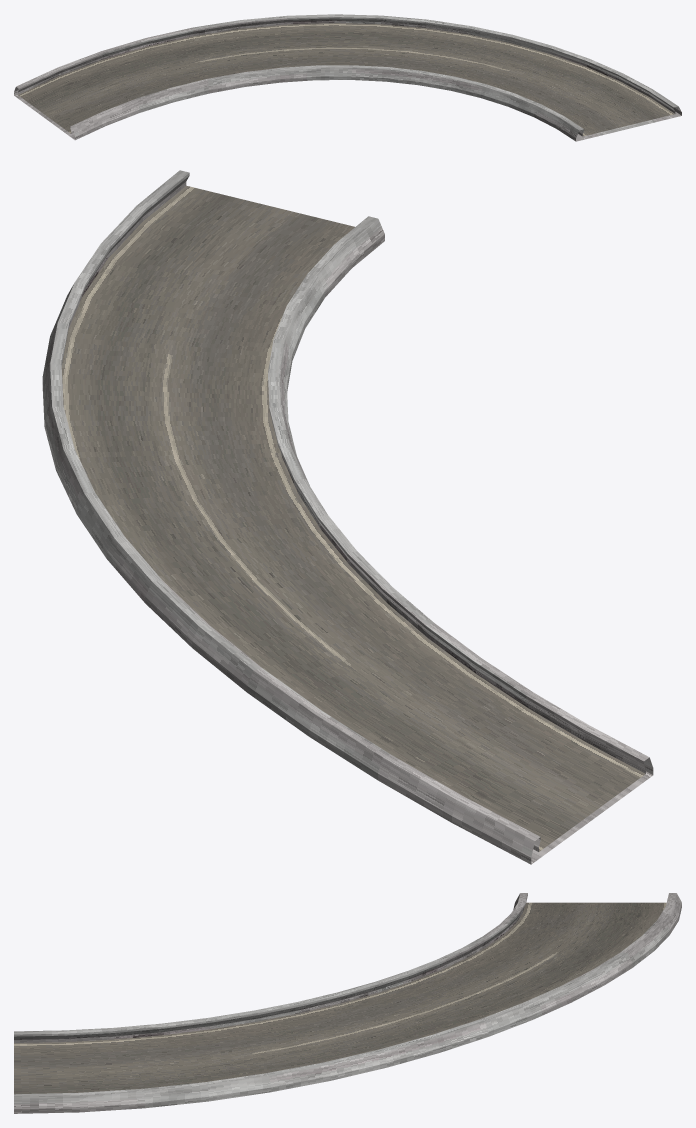
Rendered from road-Turn-Flat-BiSlopeDown-Down2-Left-Size4.glb.
3 renders of one model, top to bottom at view 1: azimuth 30°, elevation 25°; view 2: azimuth 150°, elevation 25°; view 3: azimuth 270°, elevation 25°, orthographic. The views are drawn at different scales.
Visible parts, largest first — view 1: road-Turn-Flat-BiSlopeDown-Down2-Left-Size4; view 2: road-Turn-Flat-BiSlopeDown-Down2-Left-Size4; view 3: road-Turn-Flat-BiSlopeDown-Down2-Left-Size4.
Part boxes in pixels (box(x1,y1,x2,y2)): road-Turn-Flat-BiSlopeDown-Down2-Left-Size4: box(14, 14, 681, 141); road-Turn-Flat-BiSlopeDown-Down2-Left-Size4: box(42, 170, 653, 864); road-Turn-Flat-BiSlopeDown-Down2-Left-Size4: box(14, 893, 681, 1113).
Size of the model in its own units: 4 by 0.5947 by 4.
Materials: 2 (2 with a texture image).
